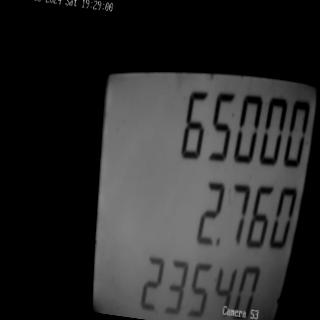screen: (64, 42, 320, 320)
